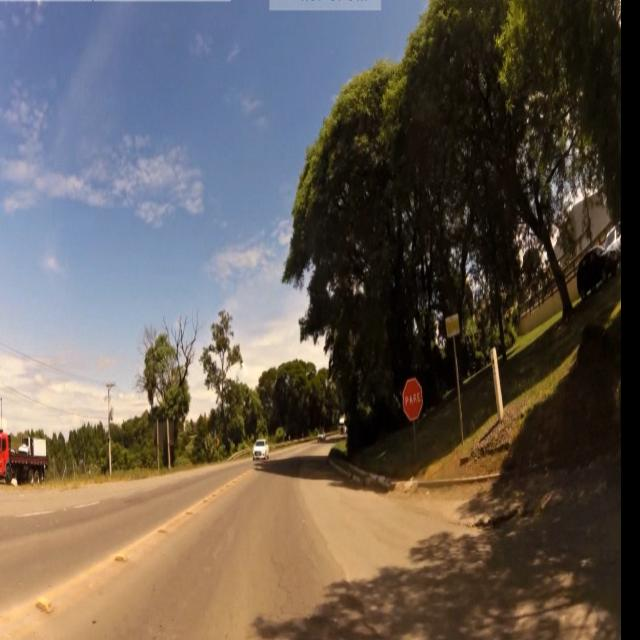R-1: (402, 378, 426, 424)
